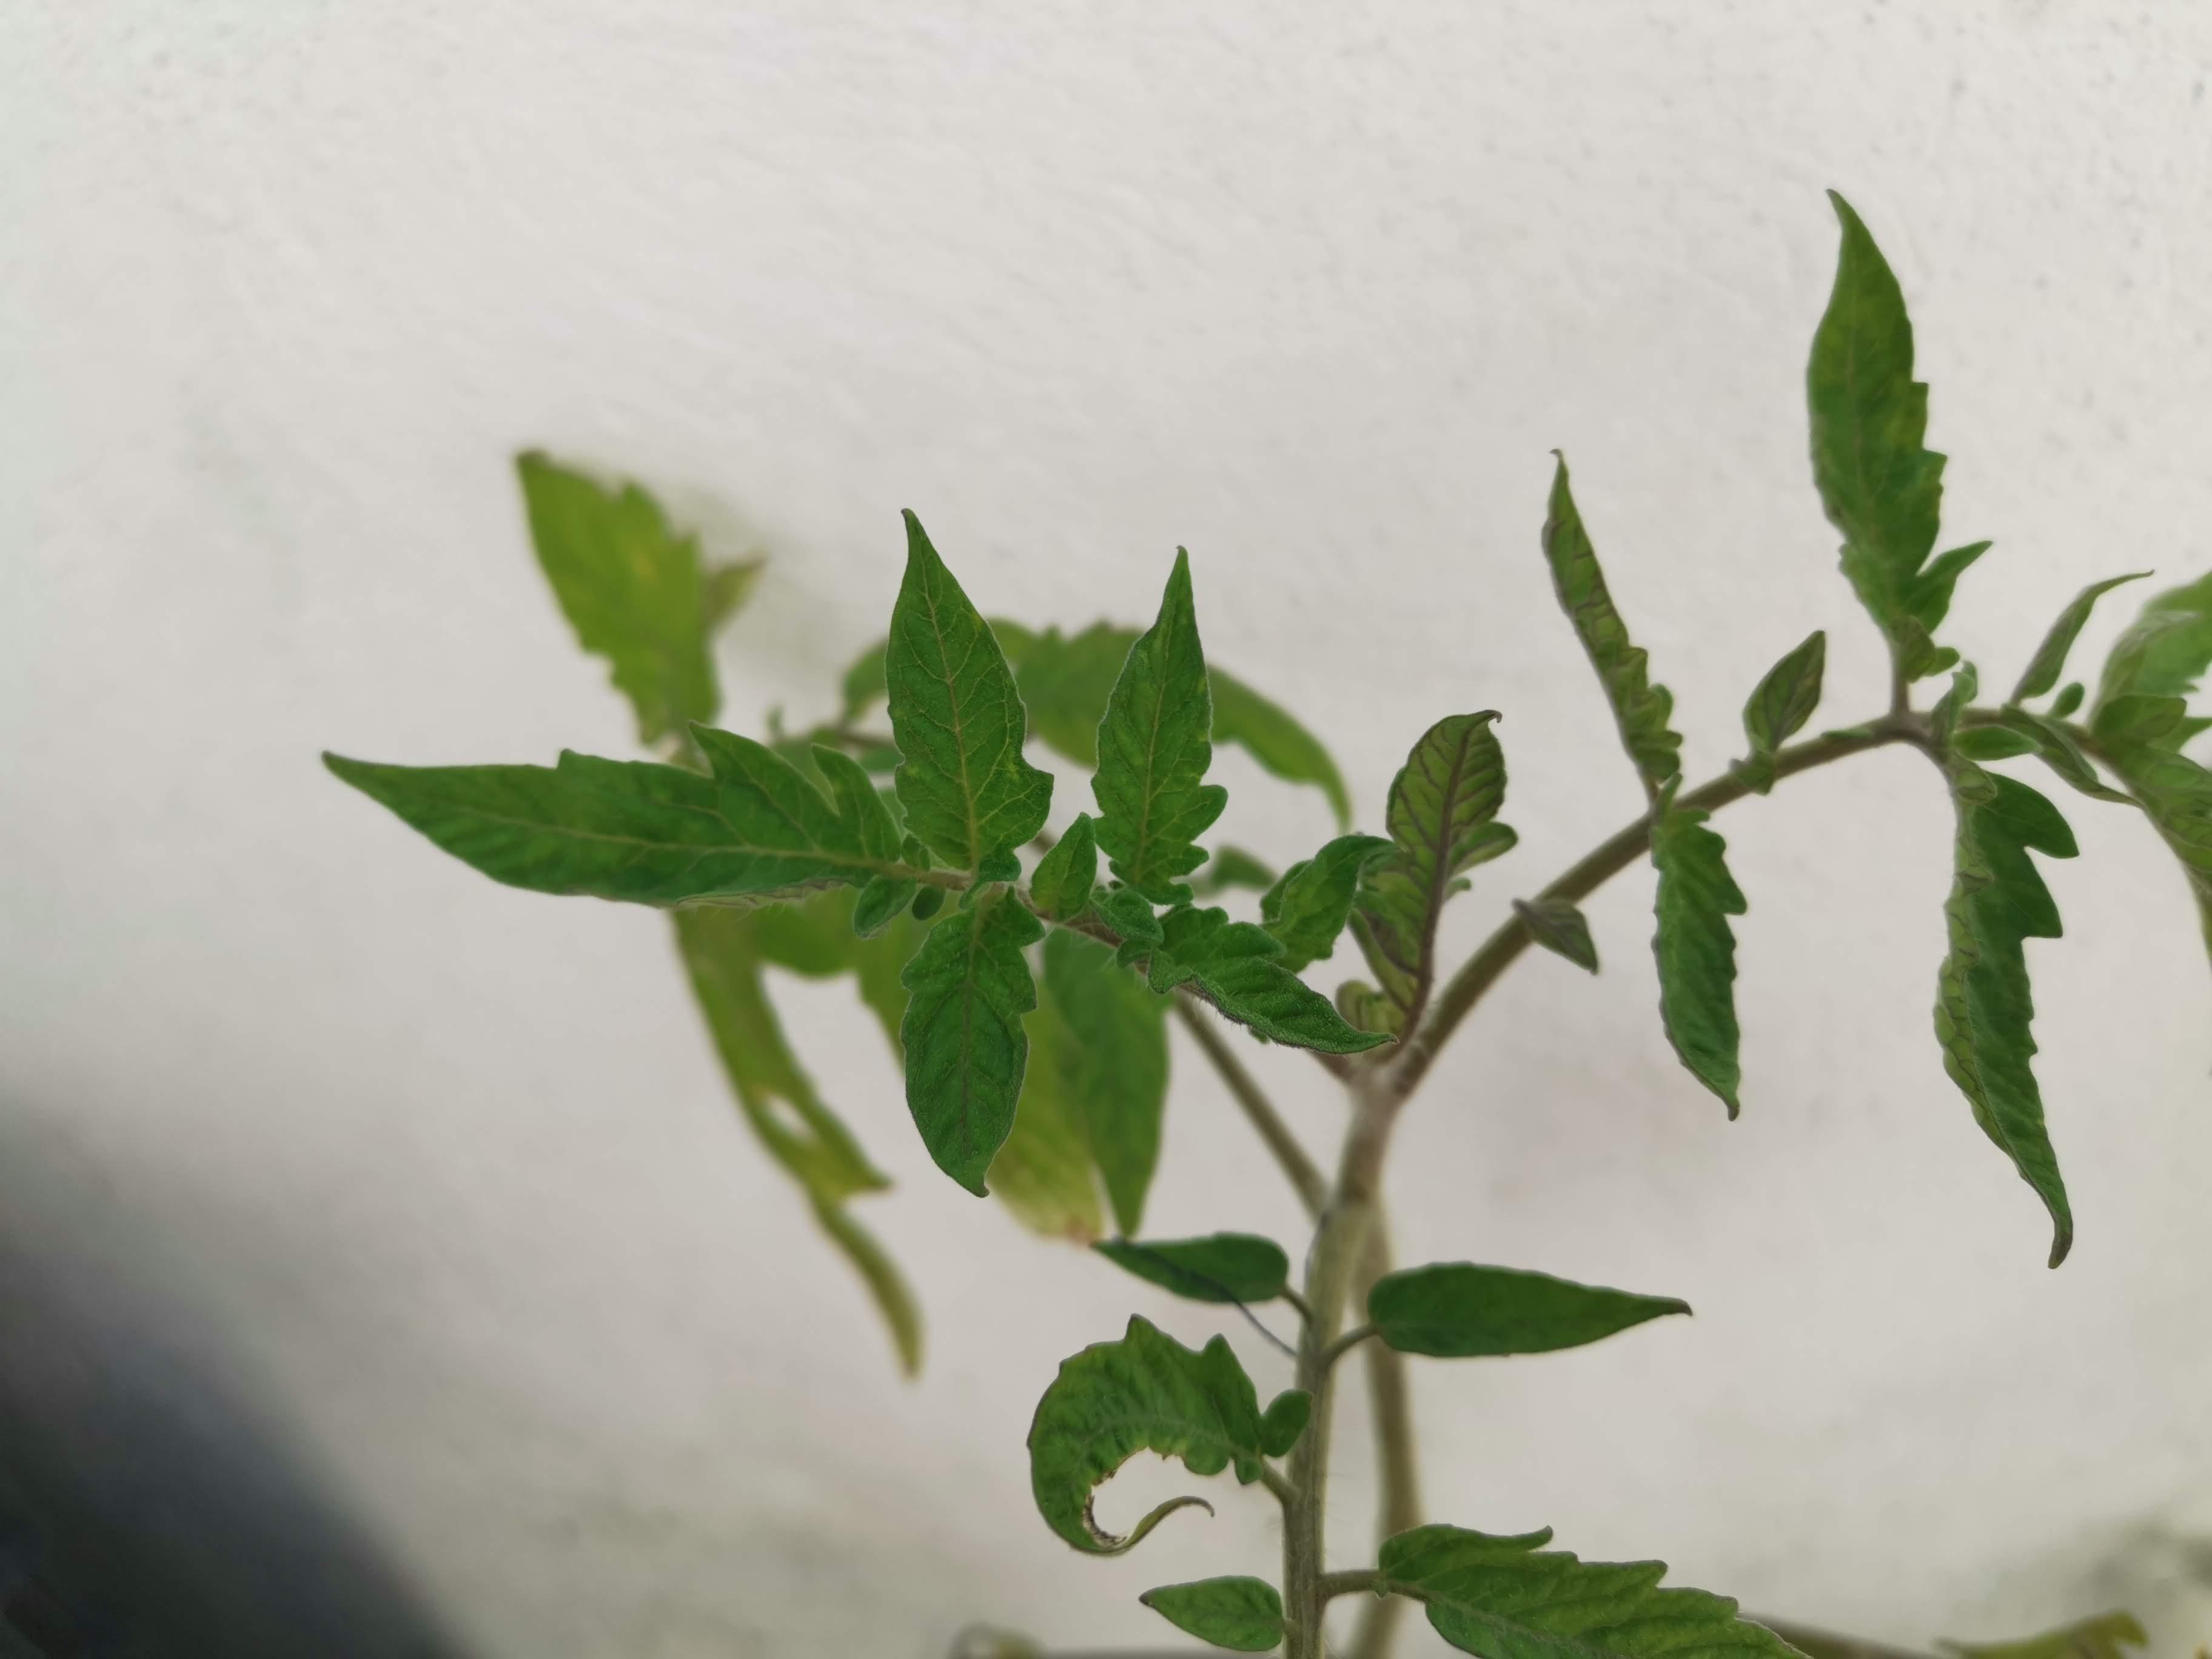Hoja: (324, 720, 902, 910), (1378, 1525, 1797, 1659), (1116, 901, 1397, 1054), (1651, 810, 1747, 1119), (1261, 835, 1388, 971), (1139, 1575, 1284, 1652)
Hoja rugoso: (1028, 1317, 1310, 1554), (885, 511, 1052, 873), (1353, 713, 1517, 1035), (1089, 545, 1228, 904), (900, 887, 1043, 1201), (1029, 814, 1096, 924)
